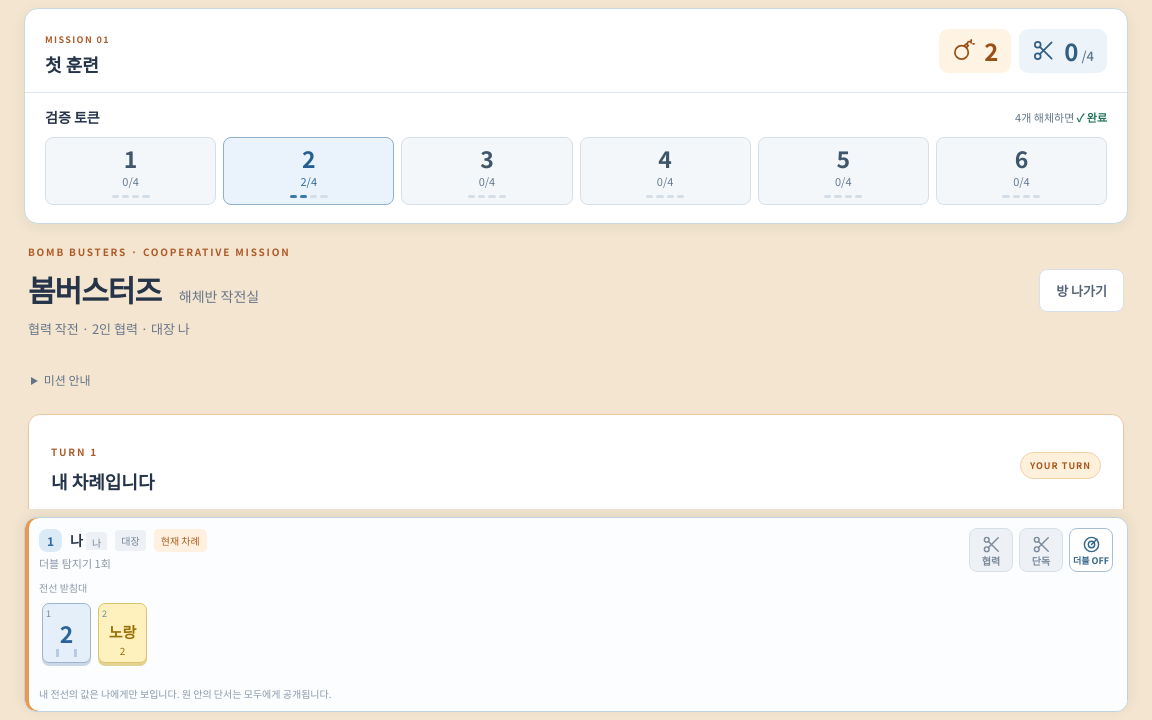
XY plus a detector cannot declare a yellow value in either selection order
Click the button with aria-label "더블 탐지기" at (1091, 550), box [1069, 528, 1113, 572]
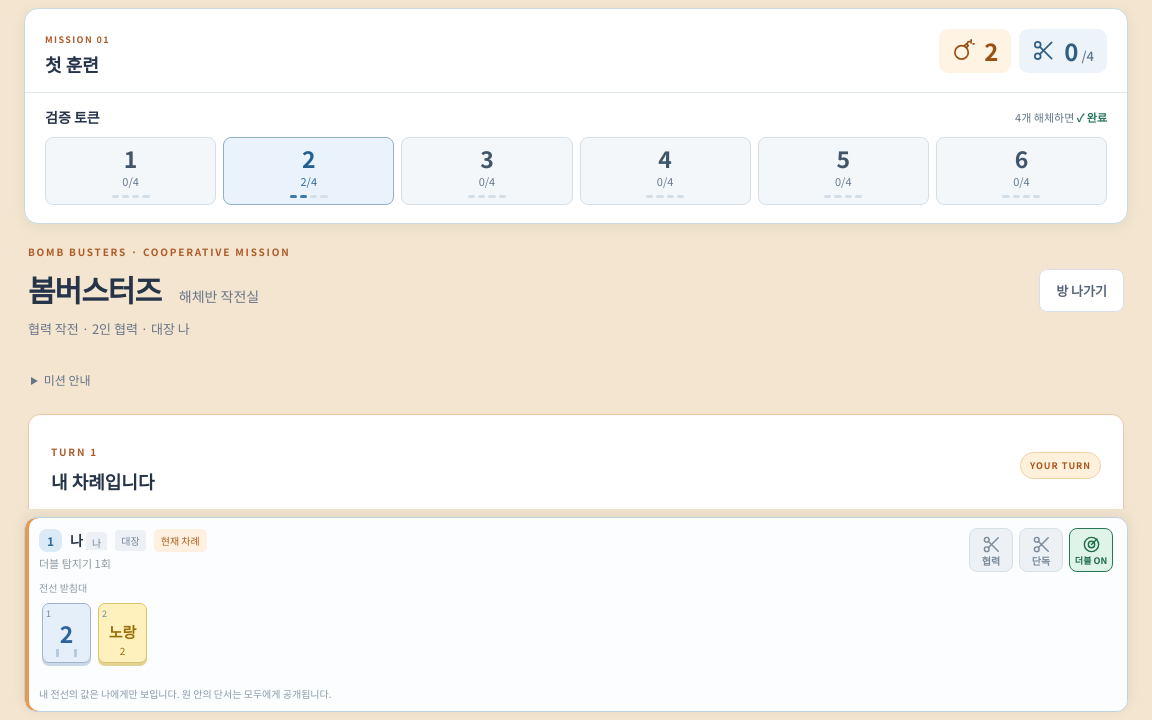
Expected: the button with aria-label "나 받침대 1, 2번 전선: 노랑" is disabled, [98, 603, 147, 663]
Click the button with aria-label "더블 탐지기" at (1091, 550), box [1069, 528, 1113, 572]
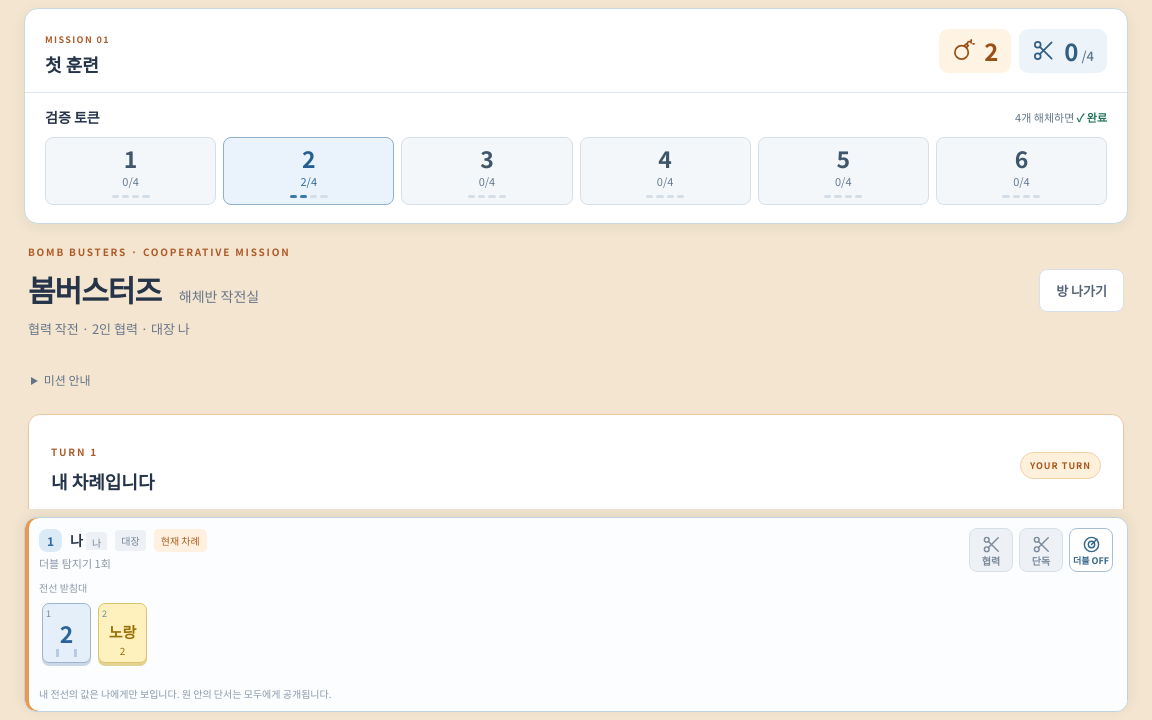
Click the button named "나 받침대 1, 1번 전선: 2" at (66, 633), box [42, 603, 91, 663]
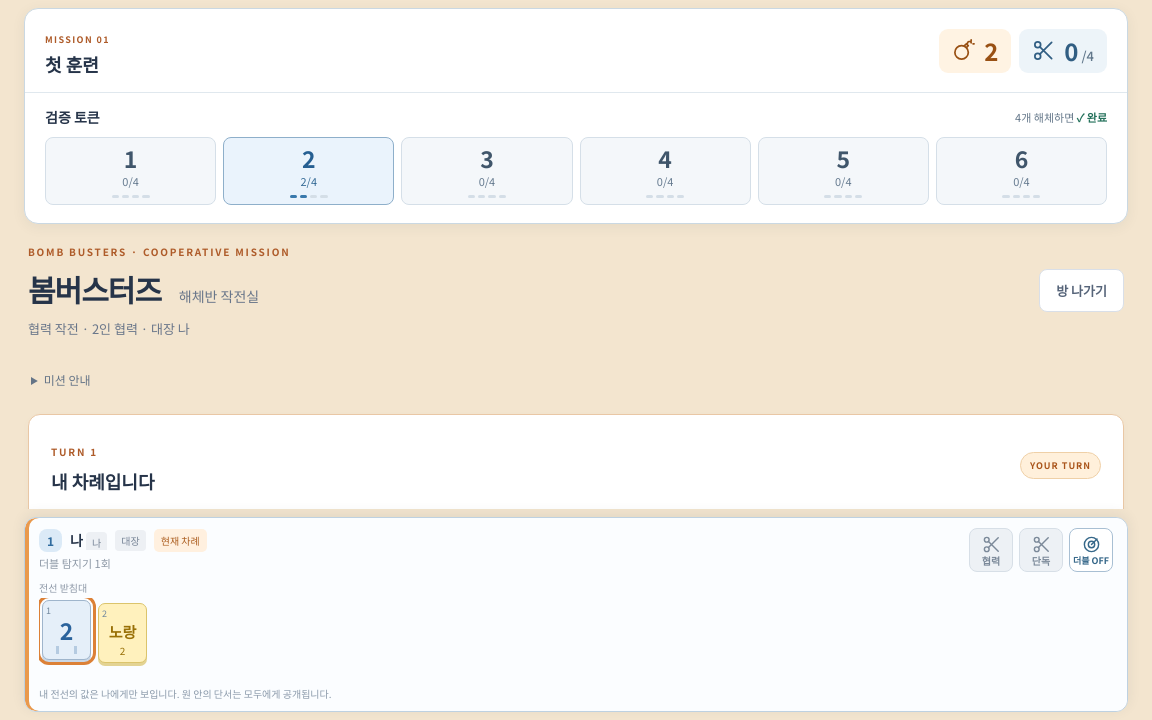
Click the button with aria-label "나 받침대 1, 2번 전선: 노랑" at (122, 633), box [98, 603, 147, 663]
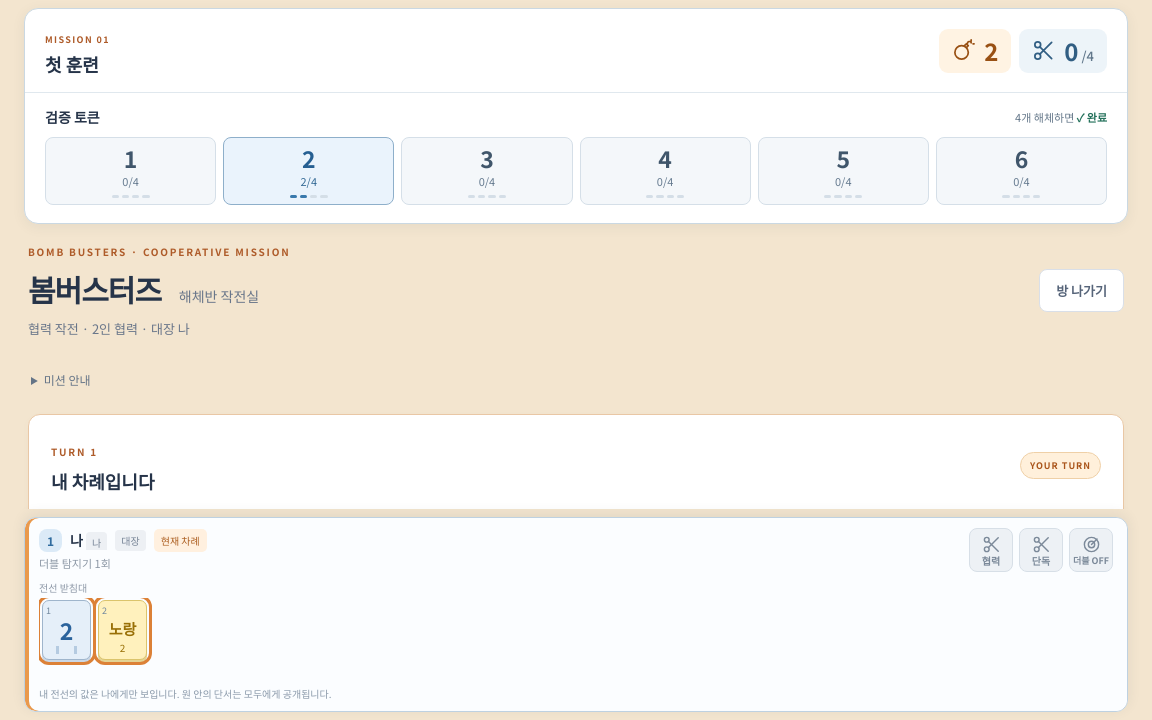
Now the button with aria-label "더블 탐지기" is disabled, box [1069, 528, 1113, 572]
